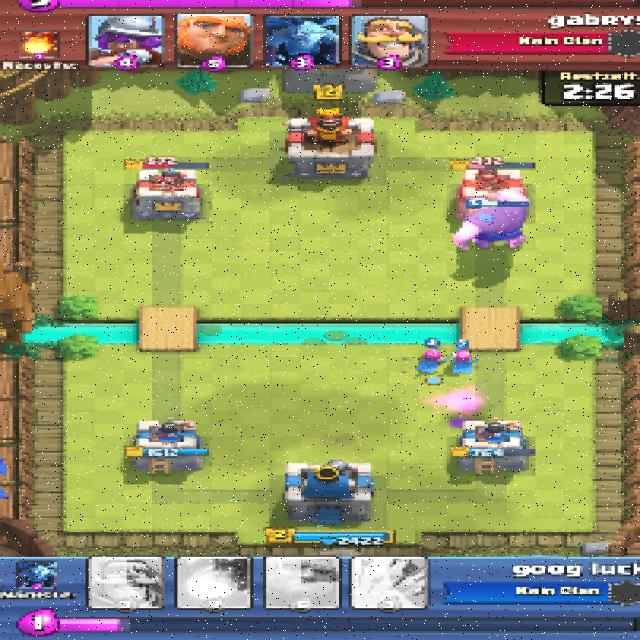Player-Archer: (415, 349, 447, 374), (451, 347, 476, 374)
Player-Giant: (452, 190, 532, 249)
